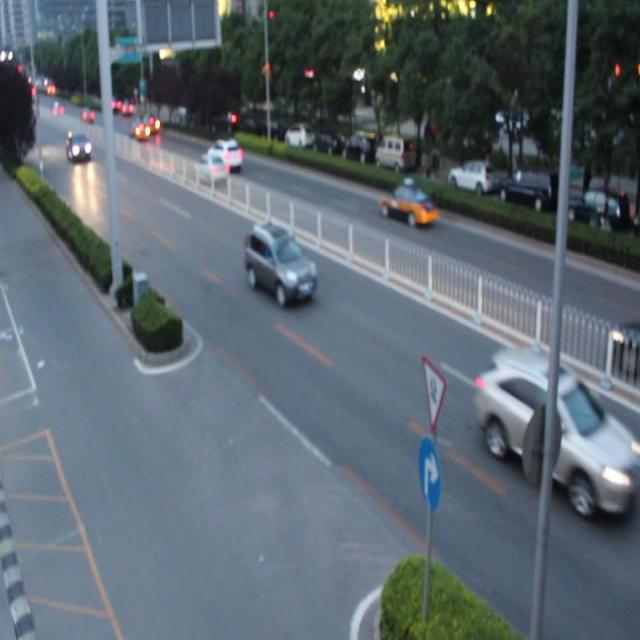car: (480, 350, 624, 514), (245, 224, 315, 301), (381, 185, 436, 227), (205, 138, 242, 171), (192, 152, 228, 182)
